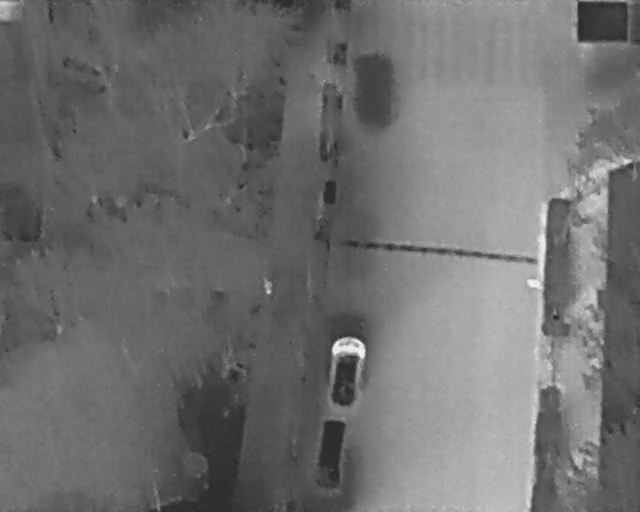Car: (325, 331, 368, 410), (313, 414, 350, 493)
Person: (261, 277, 274, 295)
